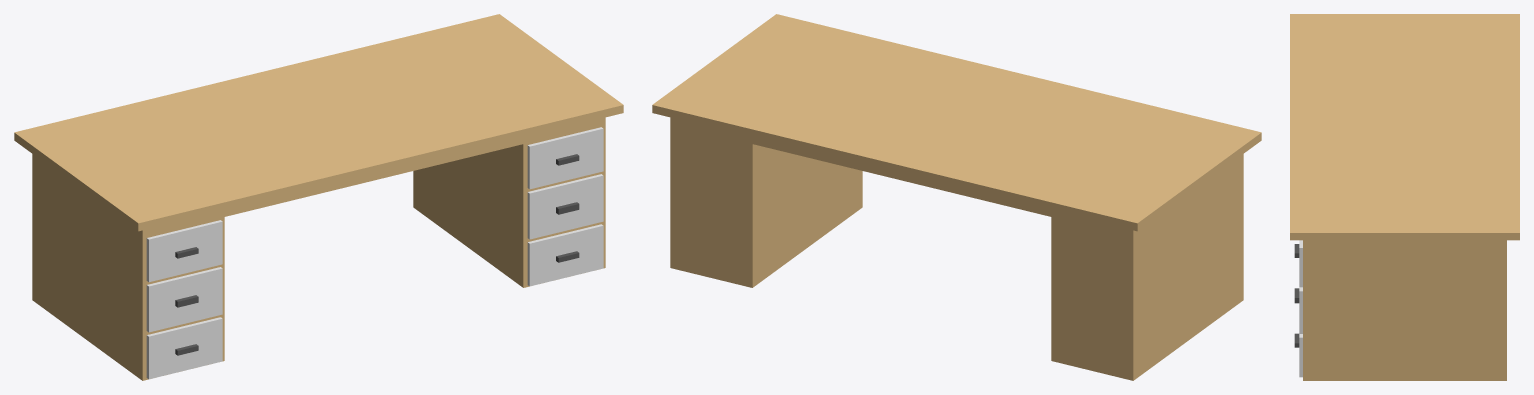
File: Table_2.FBX
3 renders of one model, left to right at view 1: azimuth 30°, elevation 25°; view 2: azimuth 150°, elevation 25°; view 3: azimuth 270°, elevation 25°, orthographic. The views are drawn at different scales.
Parts seen in each view (by area): view 1: Box002; view 2: Box002; view 3: Box002.
Boxes of the visible parts, x1,y1,x2,y2 form: Box002: (14, 14, 623, 380); Box002: (652, 14, 1261, 380); Box002: (1290, 14, 1519, 380).
Bounding box in the file's own units: 92.79 × 30.23 × 41.16.
1 material, 1 textured.
